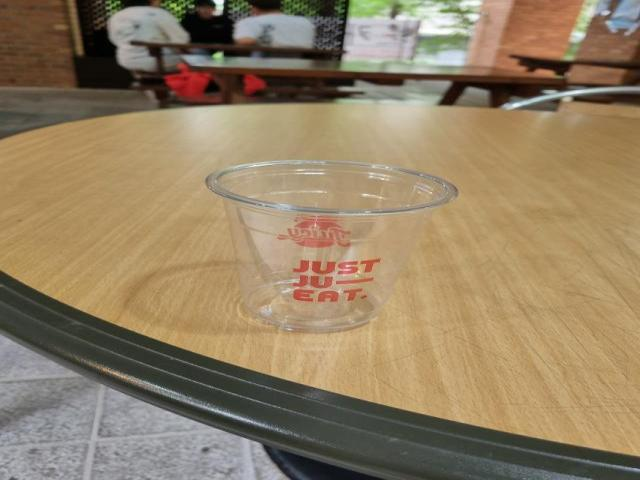cup: (192, 153, 468, 339)
